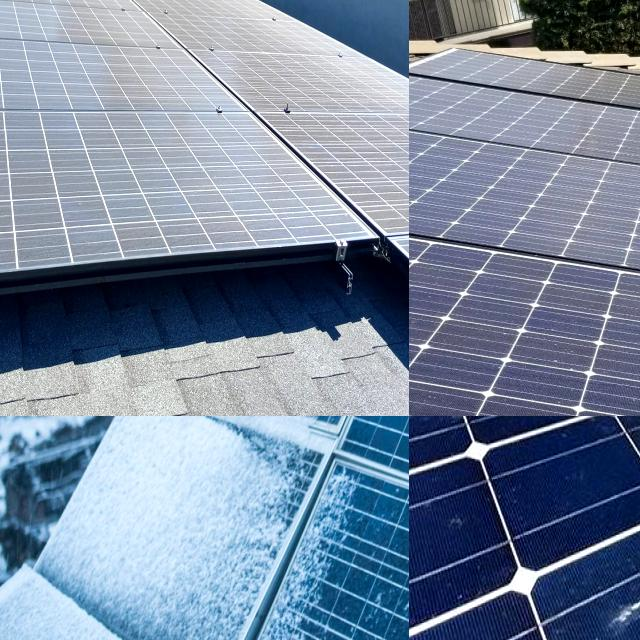bird: (587, 416, 640, 436), (601, 416, 640, 431)
dust: (100, 132, 236, 232), (0, 113, 66, 255), (228, 32, 360, 98), (44, 42, 192, 95), (355, 134, 409, 213), (250, 174, 306, 237), (282, 112, 338, 167), (73, 0, 178, 28), (0, 38, 44, 102), (0, 0, 51, 32), (195, 0, 245, 29)
panel: (114, 416, 252, 640), (176, 416, 372, 536), (0, 416, 87, 640), (260, 433, 352, 640)
